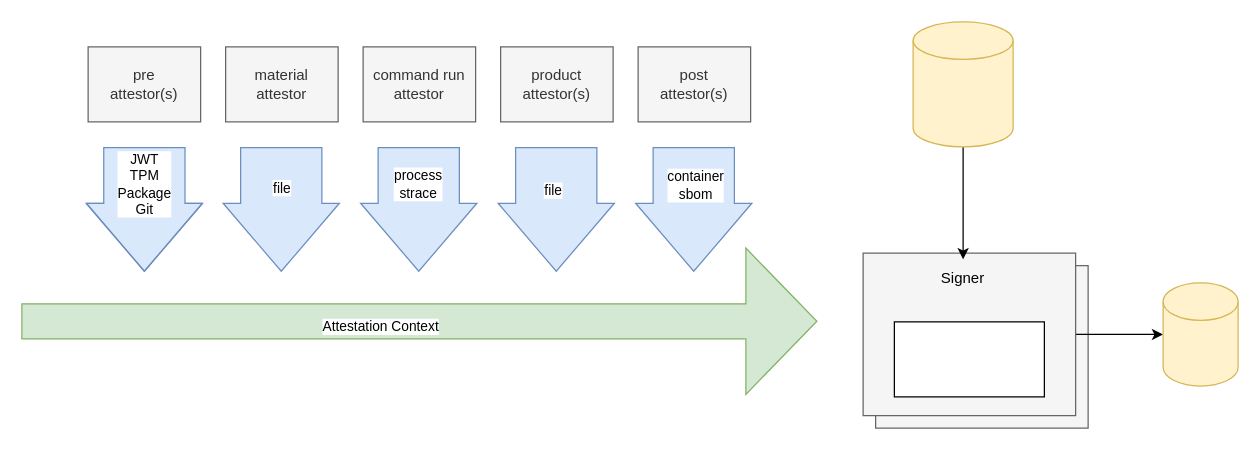
This 1260x450 diagram has some shape labels left out. Here are the shapes that lost their labels. From the top down, the box of each, then its label:
(912, 21, 1013, 147): KeyProvider
(1162, 282, 1238, 386): Store
(893, 321, 1044, 397): Envelope
